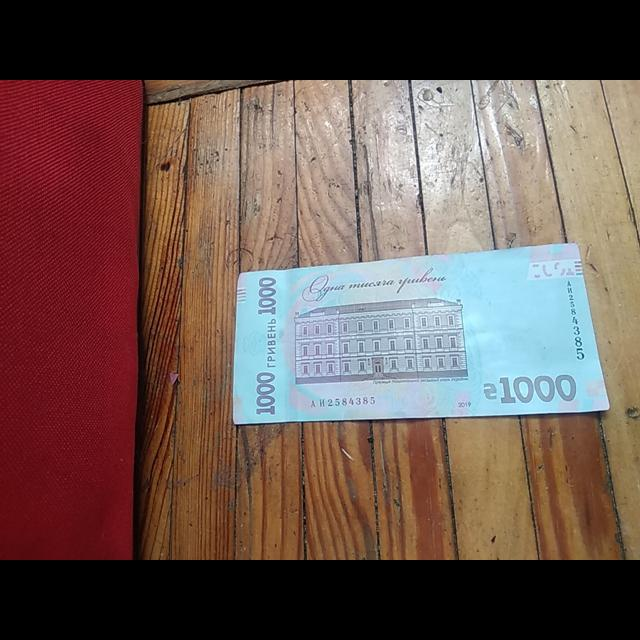1000uah: (233, 243, 609, 426)
